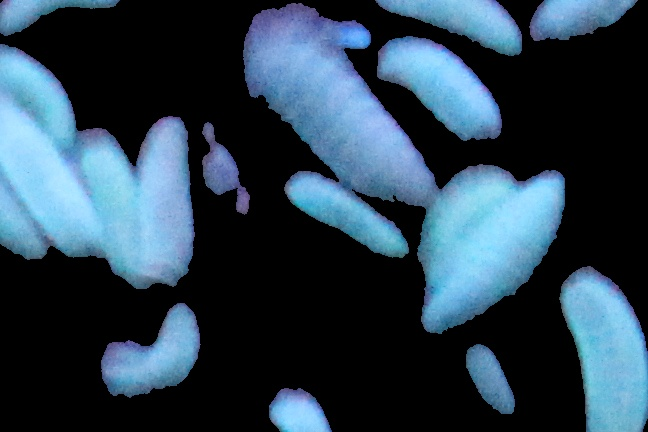larvae: (246, 7, 437, 207), (422, 169, 572, 338), (1, 63, 103, 261), (562, 264, 648, 428), (378, 38, 501, 147), (91, 305, 207, 397), (285, 176, 410, 257), (85, 126, 145, 280), (418, 163, 507, 265), (370, 1, 526, 53), (145, 109, 187, 297), (1, 47, 76, 151), (1, 117, 53, 261), (529, 1, 643, 45), (464, 342, 524, 424), (1, 1, 124, 38)
